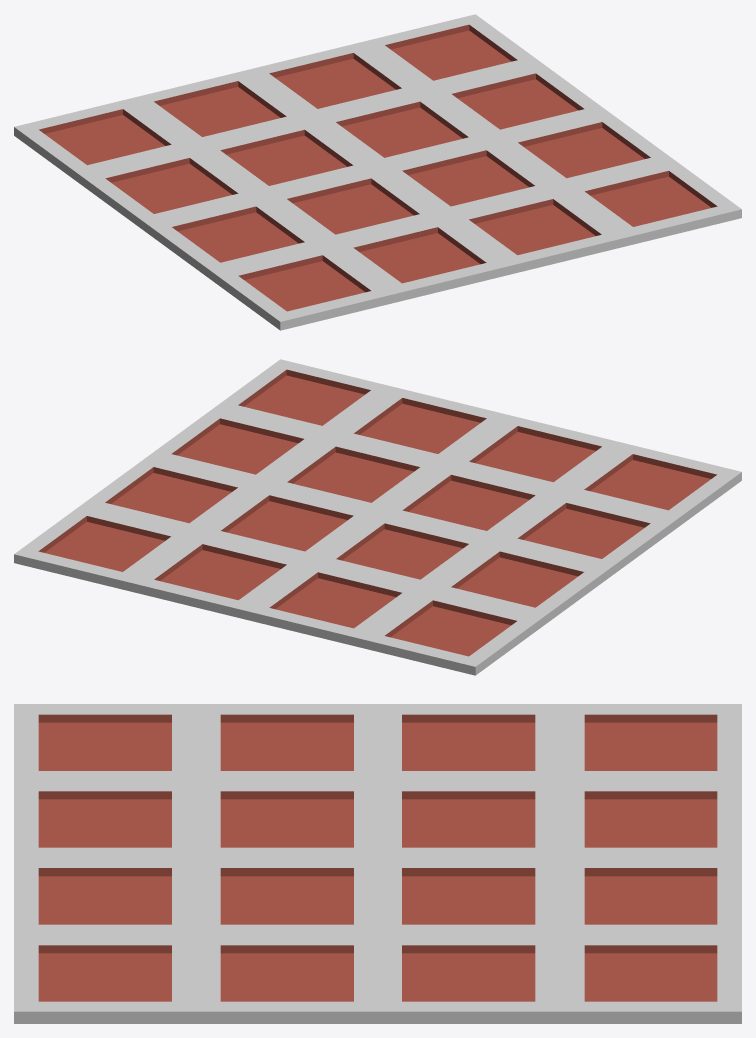
Rendered from jašek.fbx.
The picture shows the model from 3 angles, top to bottom: view 1: azimuth 30°, elevation 25°; view 2: azimuth 150°, elevation 25°; view 3: azimuth 270°, elevation 25°; orthographic projection. The views are drawn at different scales.
Parts seen in each view (by area): view 1: Model; view 2: Model; view 3: Model.
Boxes of the visible parts, <box> form: Model: <box>14,14,741,330</box>; Model: <box>14,359,741,675</box>; Model: <box>14,704,741,1023</box>.
Bounding box in the file's own units: 148 × 2.7 × 148.
